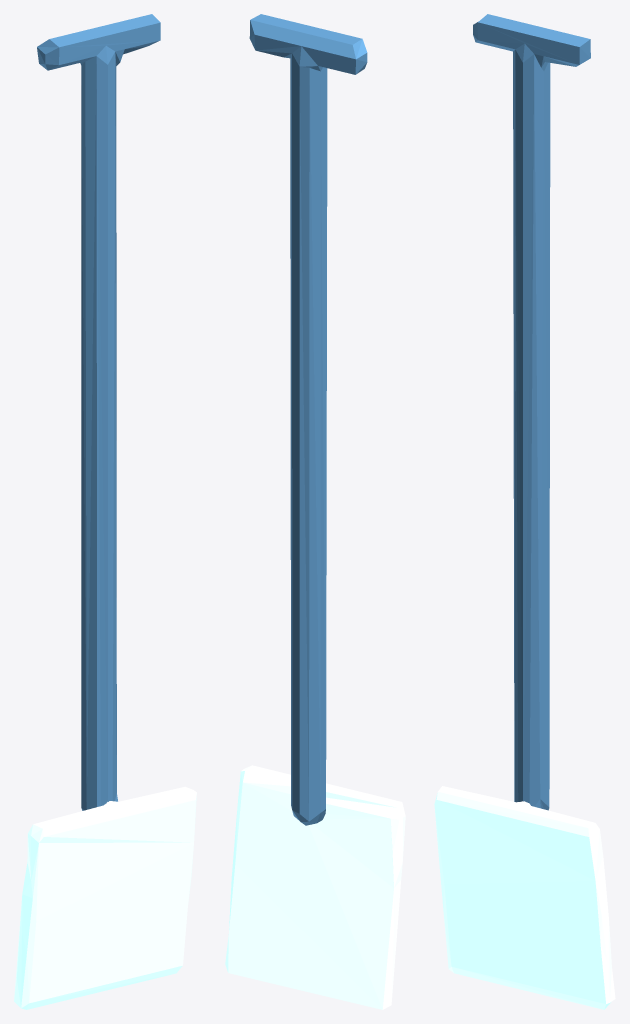
The model's file is spirit_digger_shovel.glb.
3 renders of one model, left to right at view 1: azimuth 30°, elevation 25°; view 2: azimuth 150°, elevation 25°; view 3: azimuth 330°, elevation 25°, orthographic.
Parts seen in each view (by area): view 1: spirit_digger_shovel; view 2: spirit_digger_shovel; view 3: spirit_digger_shovel.
Part boxes in pixels (box(x1,y1,x2,y2)): spirit_digger_shovel: box(14, 14, 196, 1009); spirit_digger_shovel: box(225, 14, 405, 1009); spirit_digger_shovel: box(434, 14, 615, 1009).
Size of the model in its own units: 0.26 by 1.47 by 0.0806.
